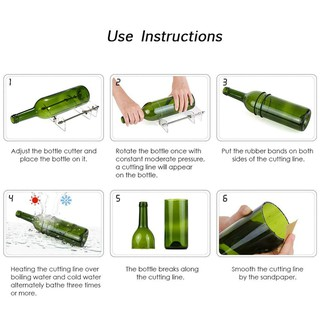glass_bottle: (220, 84, 313, 134), (8, 84, 58, 134)
